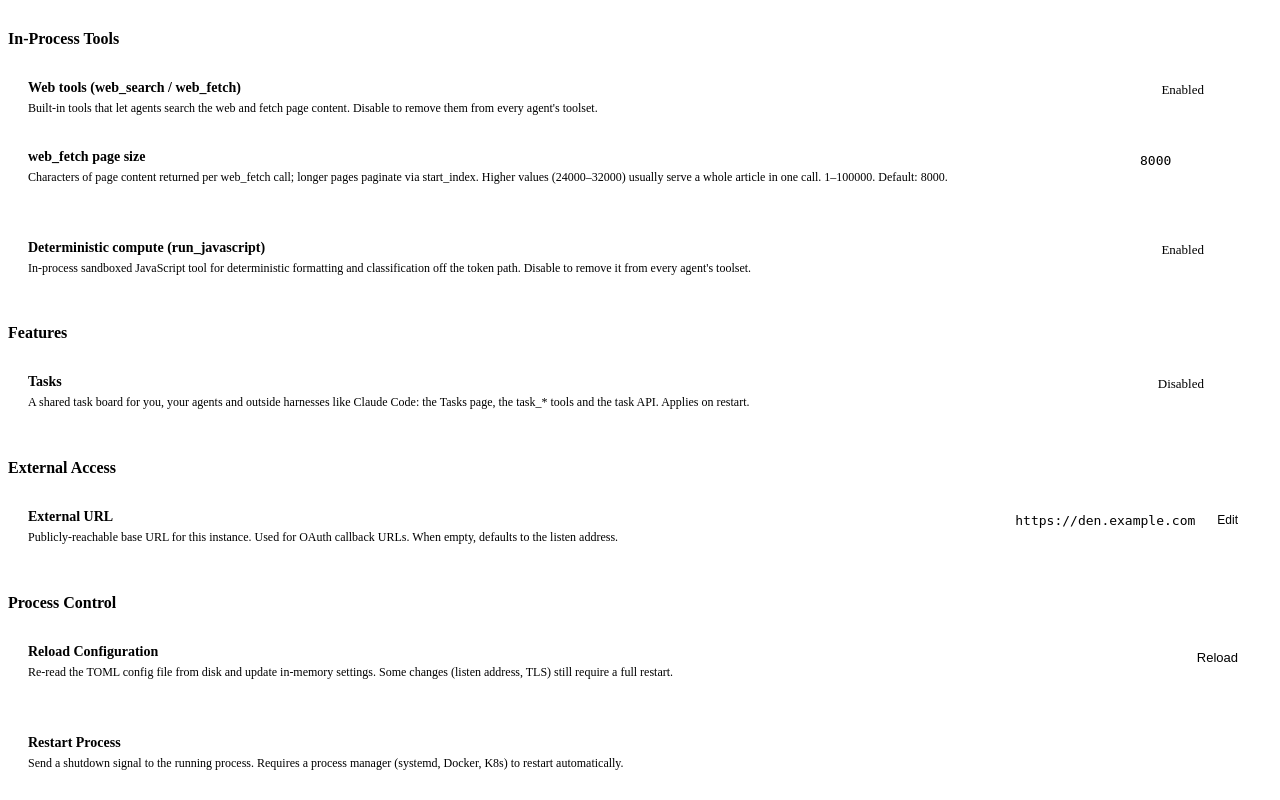
it: ServerConfig page › Edit button shows input form
The width and height of the screenshot is (1280, 800).
(page scrolled)
Note: Click the External URL edit button (last one)
Click the button "Edit": (1228, 520) [1207,509,1248,531]
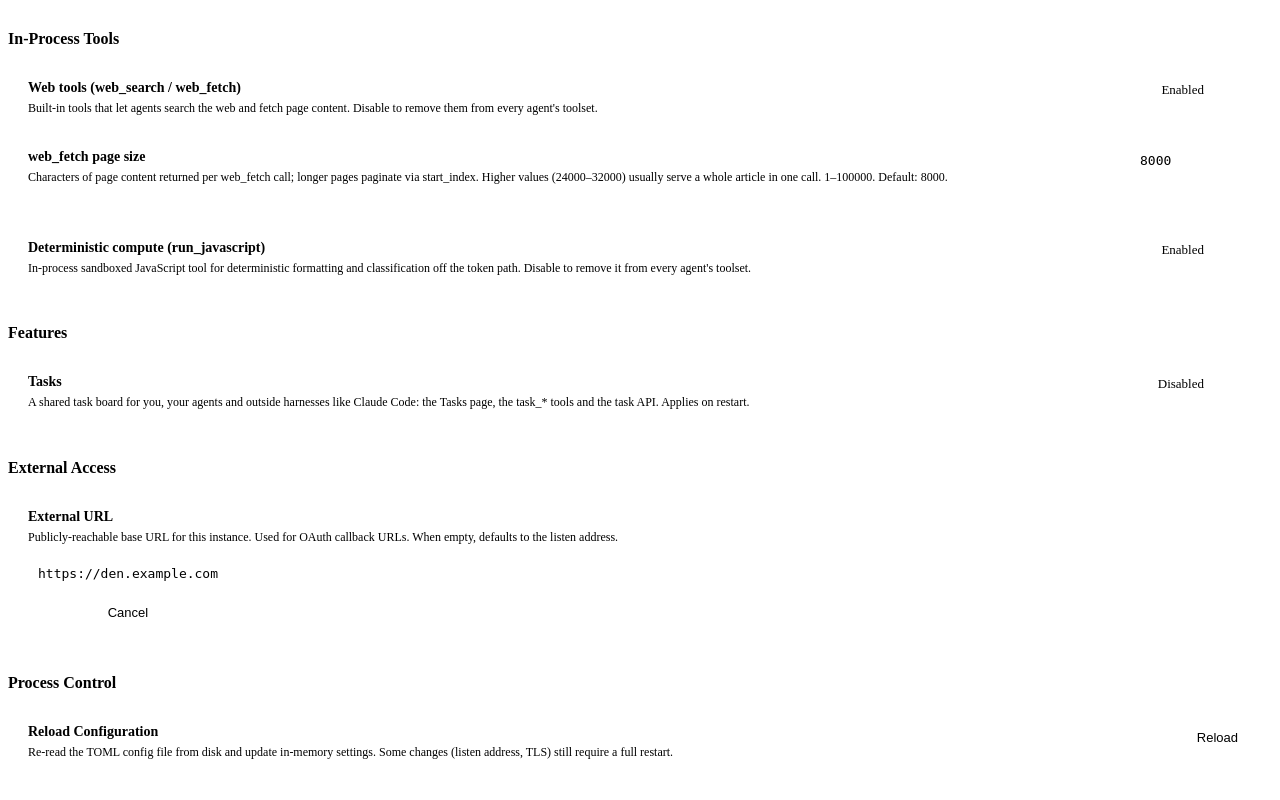
Check: the field is shown, box [28,558,1272,589]
Check: the button "Cancel" is shown, box [94,599,162,626]
